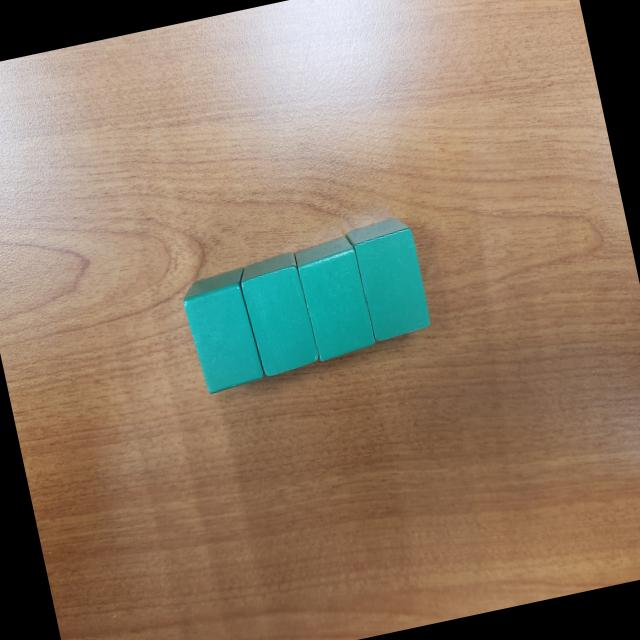green: (343, 213, 434, 344), (177, 266, 268, 396), (234, 248, 322, 379), (291, 233, 378, 364)
